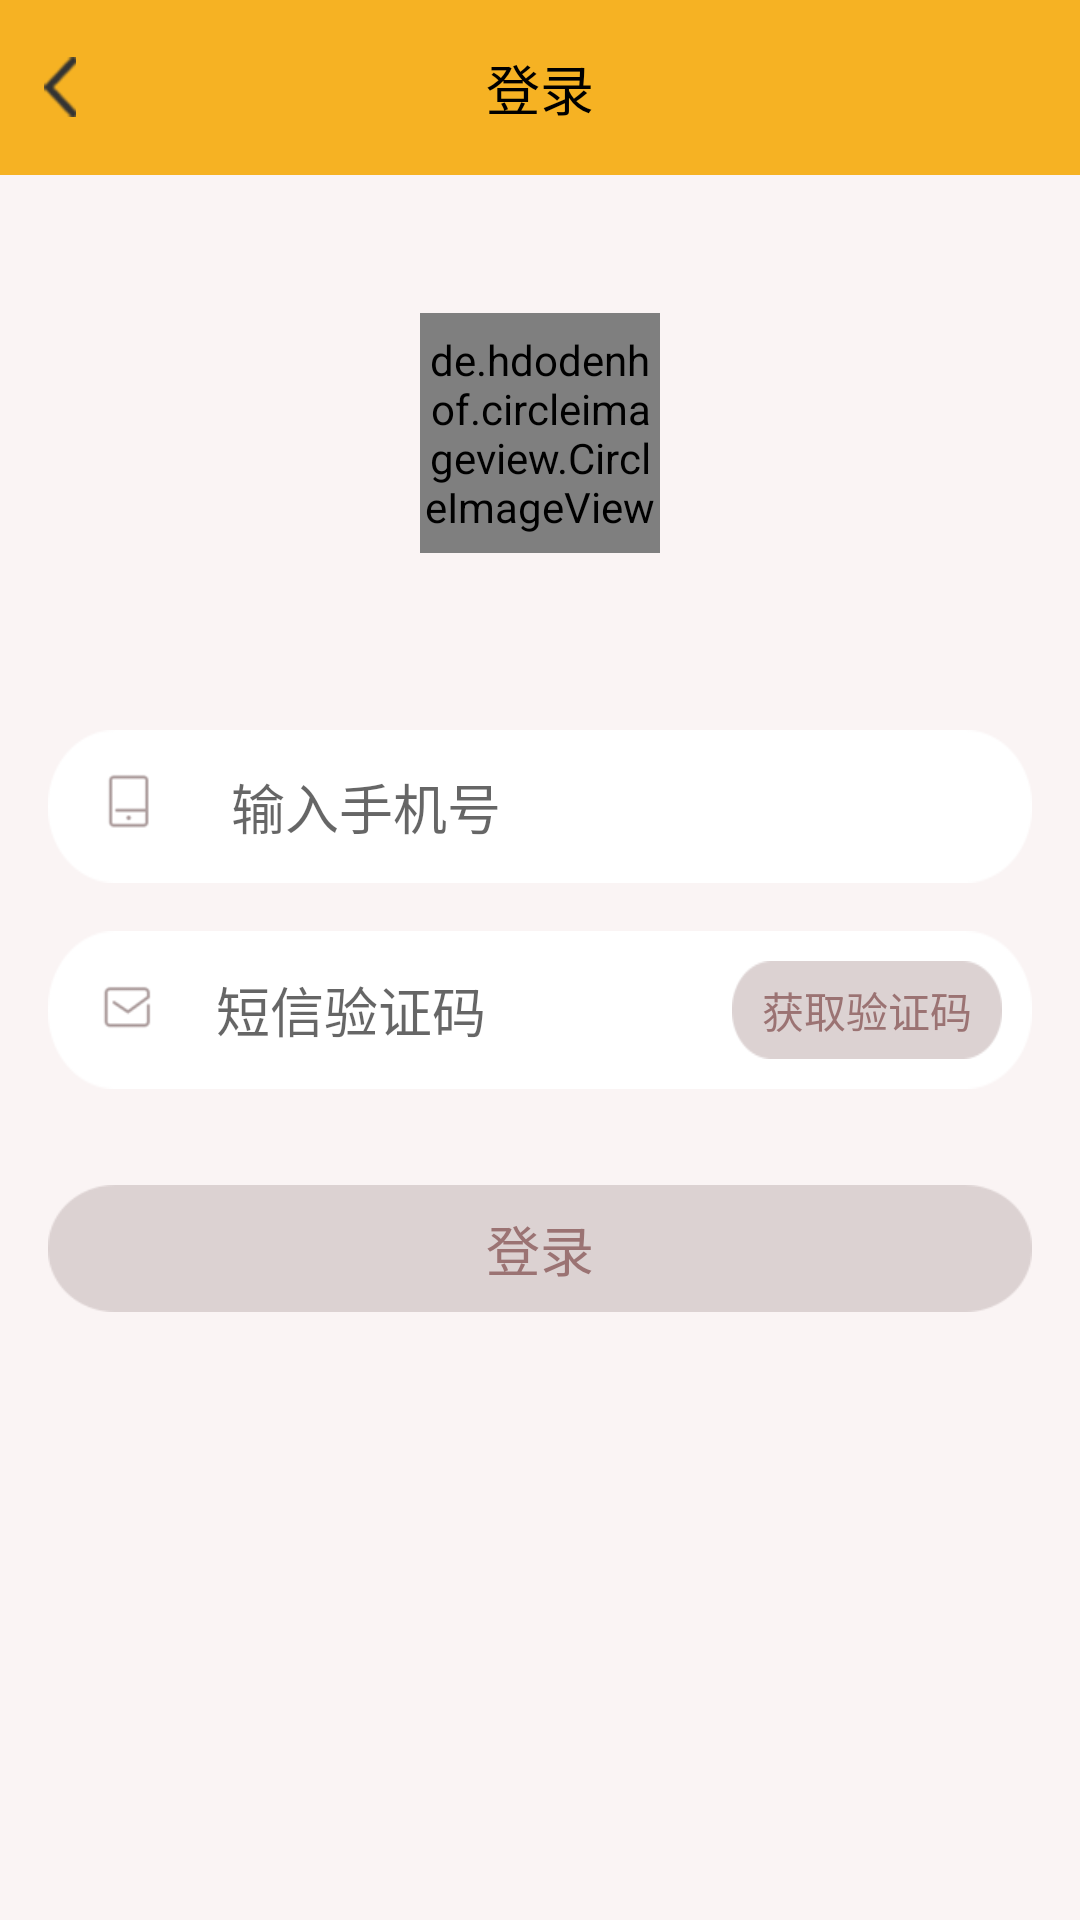

Where icons sit on this 1080 x 1920 app screen, as (x1, y1, x2, y2):
fanhui: (44, 57, 76, 117)
